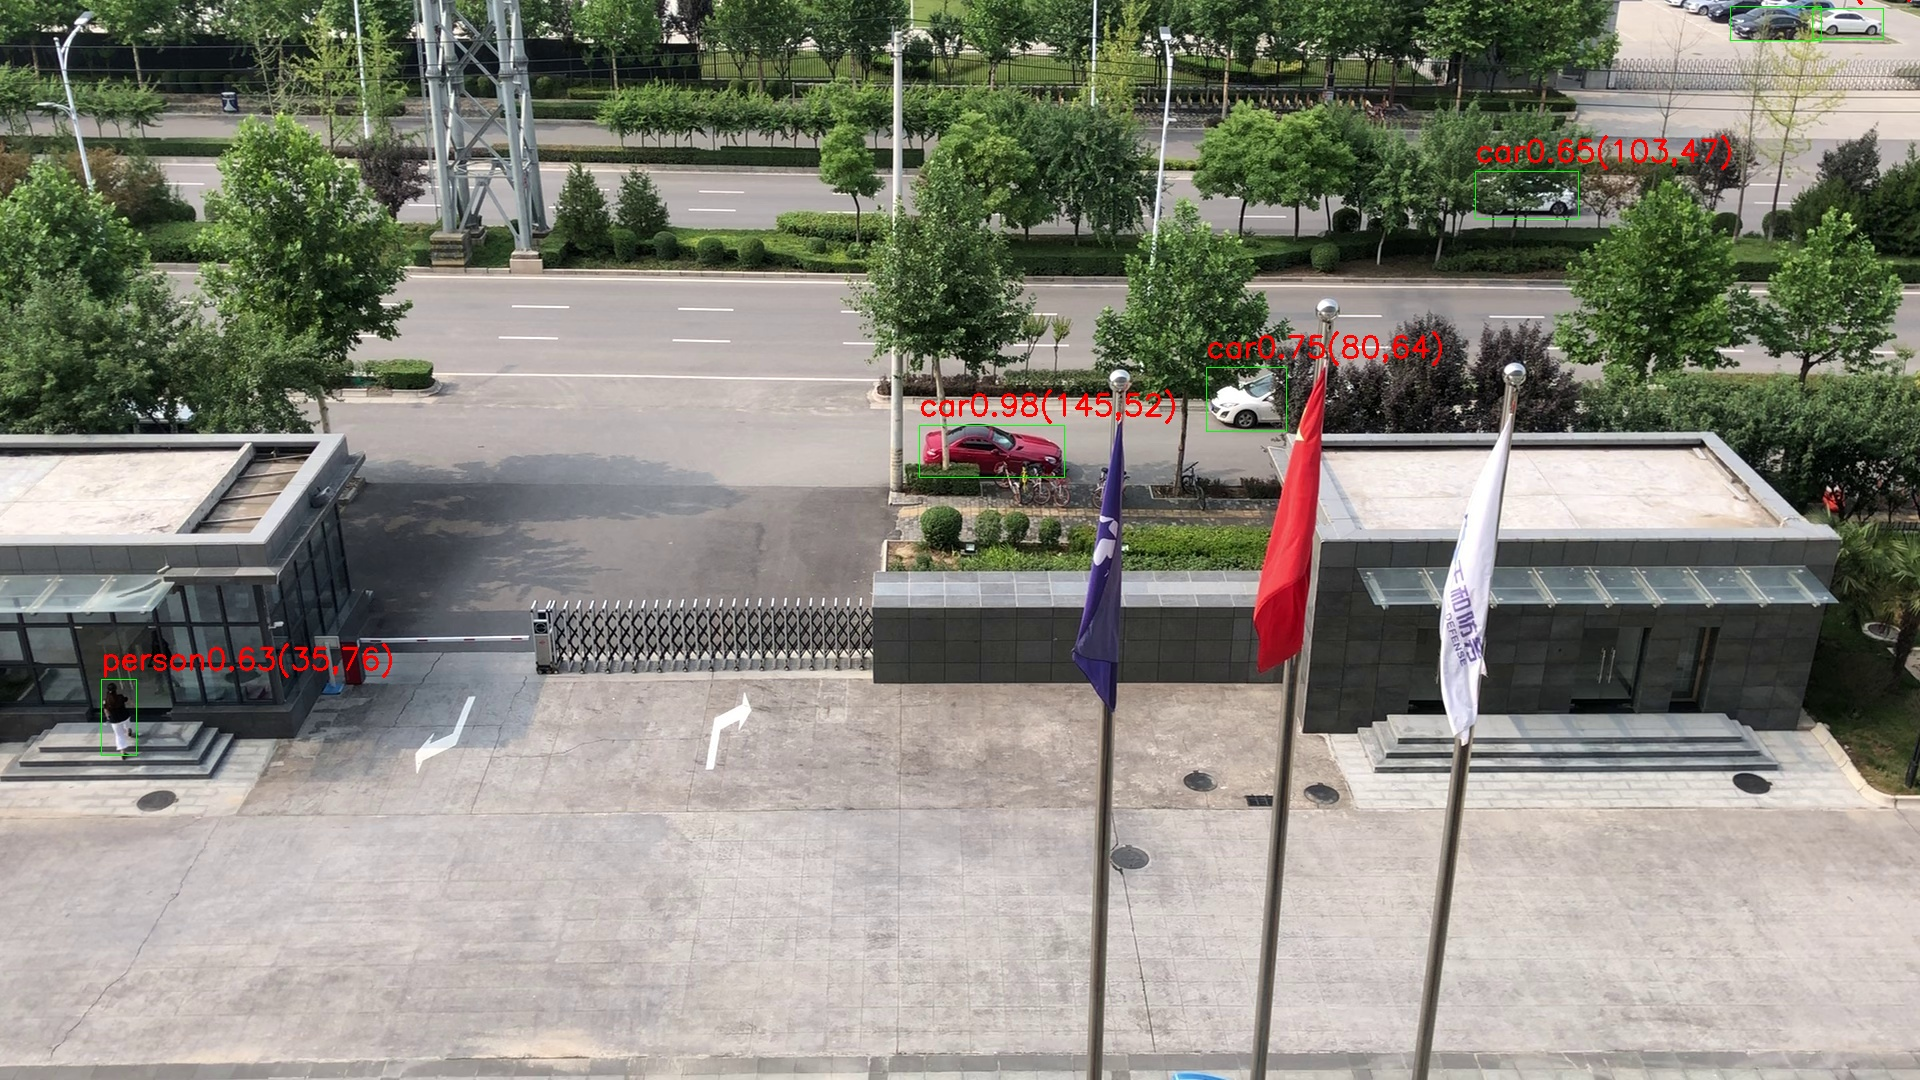car: (919, 425, 1064, 477), (1206, 367, 1286, 431), (1475, 171, 1578, 218), (1730, 6, 1821, 40), (1812, 8, 1883, 38)
person: (101, 679, 136, 755)
